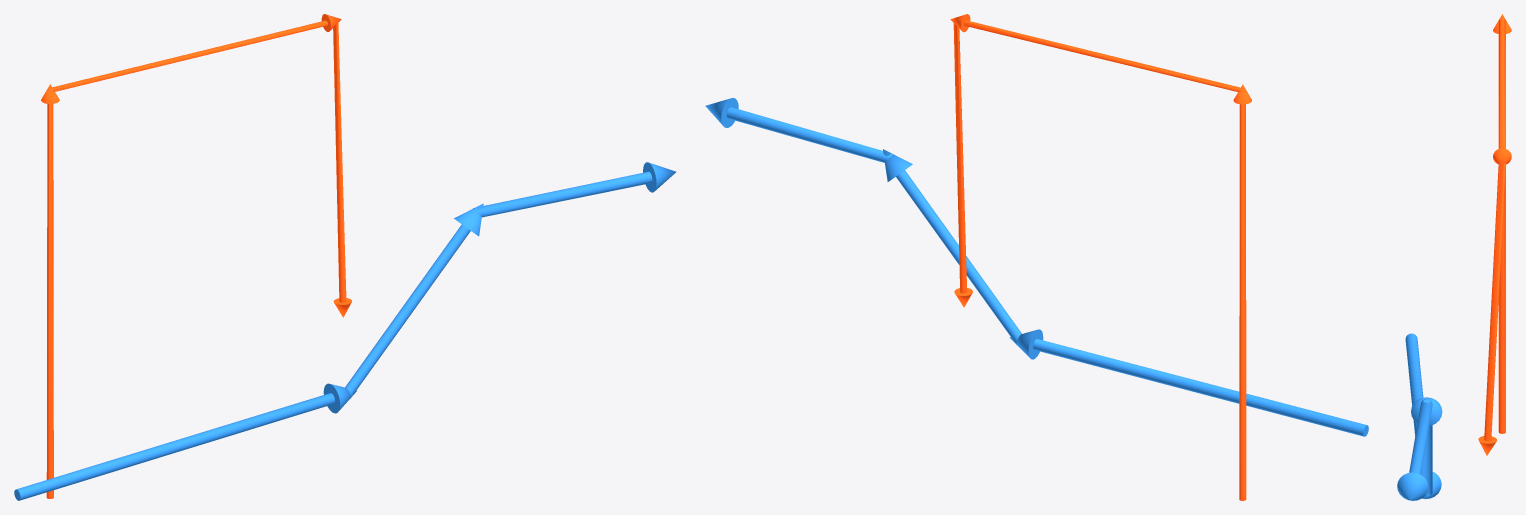
The model's file is flash_mixer_flow.glb.
3 renders of one model, left to right at view 1: azimuth 30°, elevation 25°; view 2: azimuth 150°, elevation 25°; view 3: azimuth 270°, elevation 25°, orthographic.
Visible parts, largest first — view 1: water, coagulant.001; view 2: water, coagulant.001; view 3: coagulant.001, water.
Boxes of the visible parts, x1,y1,x2,y2 form: water: (14,162,676,500); coagulant.001: (41,14,351,498); water: (705,98,1368,436); coagulant.001: (950,14,1251,500); coagulant.001: (1478,14,1511,455); water: (1397,333,1442,500).
Bounding box in the file's own units: 2.54 × 1.53 × 0.3788.
